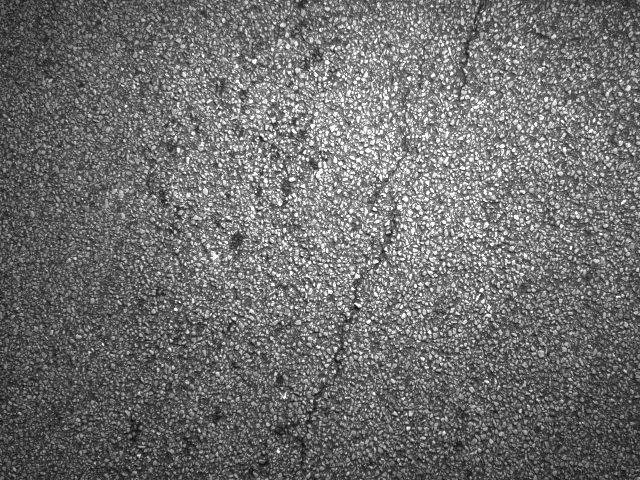crack: (291, 263, 362, 480), (350, 93, 422, 297), (421, 0, 486, 171)
